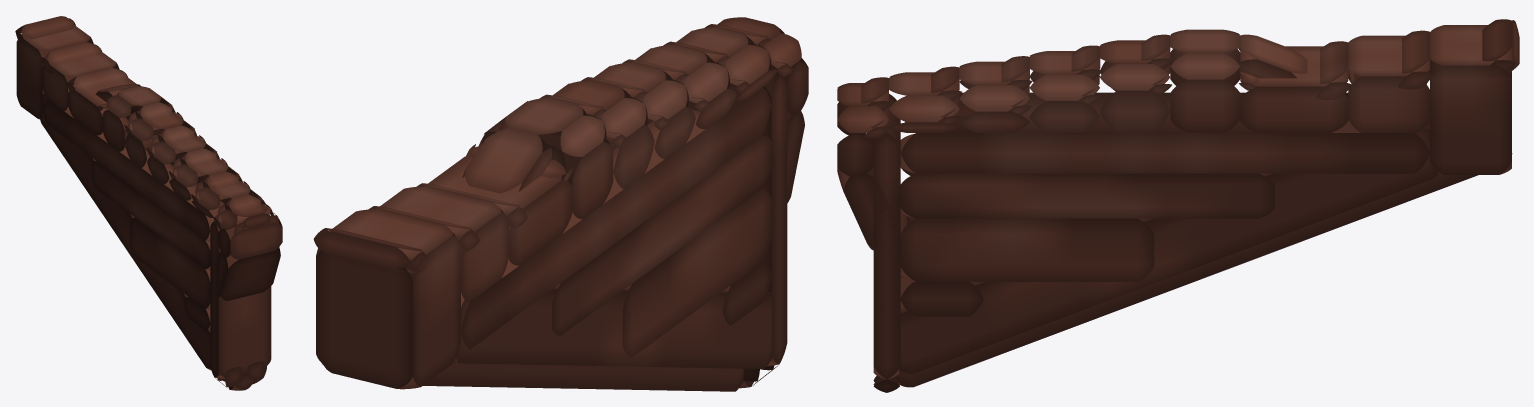
The model's file is ak47_stock_tactical.fbx.
3 views of the same model, side by side, from view 1: azimuth 30°, elevation 25°; view 2: azimuth 150°, elevation 25°; view 3: azimuth 270°, elevation 25° (orthographic). The views are drawn at different scales.
Visible parts, largest first — view 1: cube_9, cube_42, cube_7, cube_13, cube_12, cube, cube_10, cube_6, cube_31, cube_5, cube_1, cube_14 (+27 smaller); view 2: cube, cube_42, cube_7, cube_13, cube_12, cube_2, cube_6, cube_9, cube_5, cube_15, cube_14, cube_1 (+22 smaller); view 3: cube_42, cube_7, cube_13, cube_12, cube, cube_2, cube_9, cube_6, cube_5, cube_14, cube_30, cube_11 (+26 smaller).
Part boxes in pixels (x1,y1,x2,y2): cube_9: (210,214,271,378); cube_42: (42,99,231,241); cube_7: (40,82,210,370); cube_13: (91,161,210,269); cube_12: (130,217,210,309); cube: (16,25,93,119); cube_10: (210,247,280,300); cube_6: (42,51,119,111); cube_31: (218,218,282,259); cube_5: (68,77,142,135); cube_1: (15,16,75,46); cube_14: (102,98,175,151); cube: (316,209,460,389); cube_42: (457,88,771,349); cube_7: (454,277,772,368); cube_13: (552,135,771,335); cube_12: (622,188,771,357); cube_2: (363,362,743,391); cube_6: (376,186,508,302); cube_9: (687,72,787,366); cube_5: (424,155,572,265); cube_15: (462,128,551,193); cube_14: (479,120,613,219); cube_1: (313,228,428,273); cube_42: (900,92,1429,173); cube_7: (898,119,1439,374); cube_13: (900,167,1274,218); cube_12: (900,216,1154,281); cube: (1430,25,1511,174); cube_2: (897,119,1512,387); cube_9: (873,94,900,379); cube_6: (1348,35,1429,132); cube_5: (1240,46,1348,132); cube_14: (1170,49,1240,132); cube_30: (1100,61,1170,132); cube_11: (900,282,983,316).
Bounding box in the file's own units: 9.59 × 38.71 × 68.31.
1 material, 1 textured.
